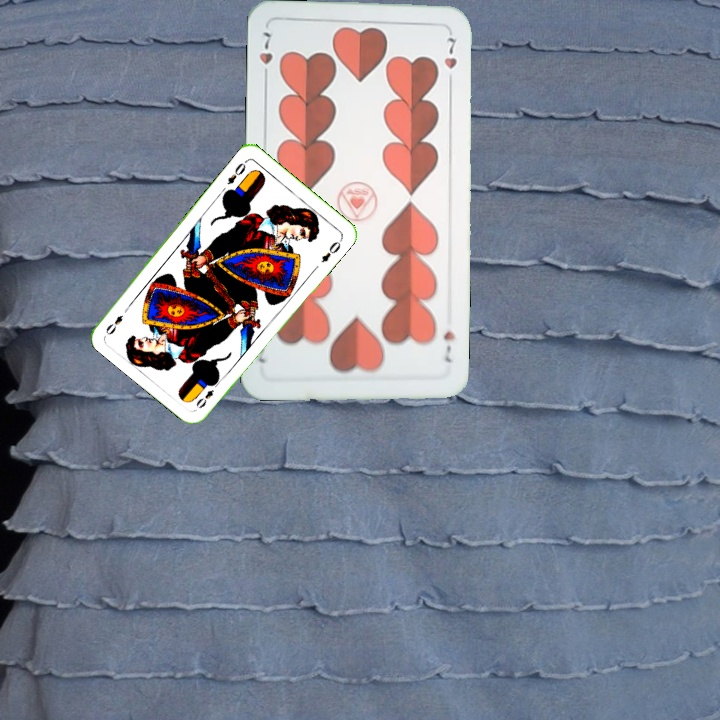EO: (192, 377, 222, 411), (223, 156, 250, 187)
H7: (255, 27, 276, 84), (440, 326, 457, 365)
